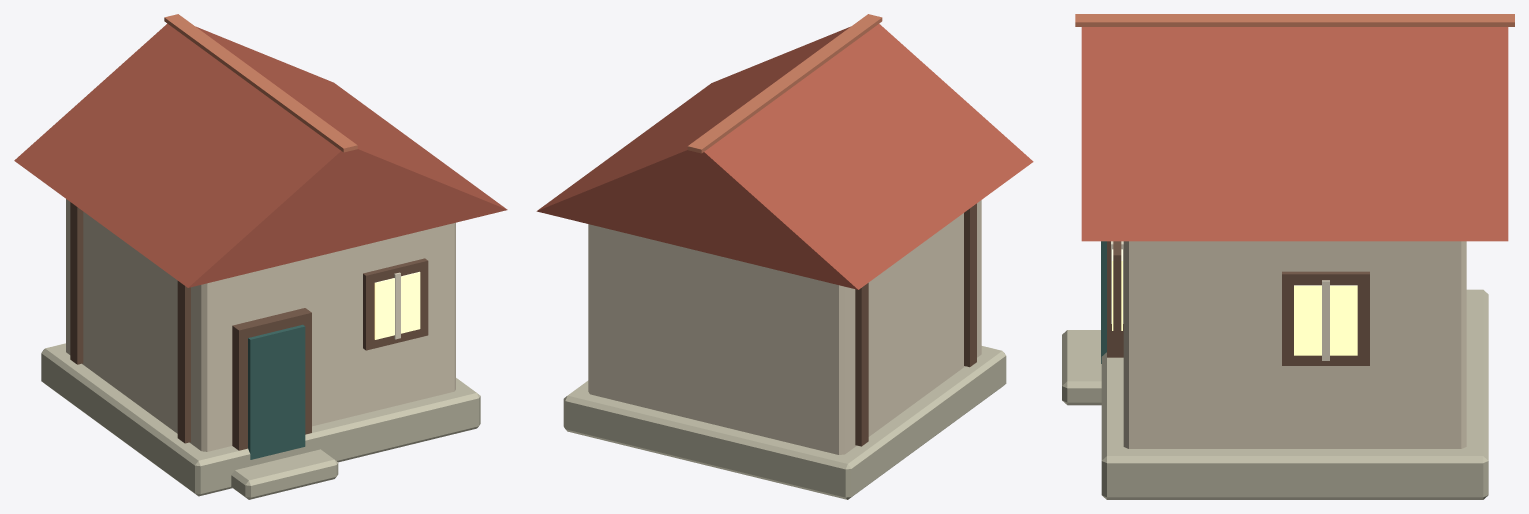
File: cottage.glb
The picture shows the model from 3 angles, left to right: view 1: azimuth 30°, elevation 25°; view 2: azimuth 150°, elevation 25°; view 3: azimuth 270°, elevation 25°; orthographic projection. The views are drawn at different scales.
Parts seen in each view (by area): view 1: Terracotta roof, Plaster walls, Stone foundation, Painted door, Door frame, Roof ridge, Doorstep, Window frame, Warm window, Corner timber, Corner timber.001; view 2: Terracotta roof, Plaster walls, Stone foundation, Roof ridge, Corner timber.001, Corner timber; view 3: Terracotta roof, Plaster walls, Stone foundation, Roof ridge, Warm window.001, Window frame.001, Doorstep, Window frame, Door frame, Painted door, Window mullion.001.
Part boxes in pixels (x1,y1,x2,y2): Terracotta roof: (14, 23, 507, 287); Plaster walls: (66, 199, 455, 451); Stone foundation: (41, 343, 480, 496); Painted door: (248, 324, 305, 459); Door frame: (232, 308, 311, 450); Roof ridge: (164, 14, 357, 152); Doorstep: (231, 449, 338, 499); Window frame: (363, 258, 428, 350); Warm window: (374, 271, 420, 339); Corner timber: (177, 281, 190, 443); Corner timber.001: (70, 202, 83, 364); Terracotta roof: (536, 24, 1033, 289); Plaster walls: (588, 200, 981, 454); Stone foundation: (563, 346, 1006, 499); Roof ridge: (687, 14, 882, 153); Corner timber.001: (855, 283, 868, 446); Corner timber: (964, 203, 976, 367); Terracotta roof: (1081, 27, 1508, 241); Plaster walls: (1123, 241, 1466, 448); Stone foundation: (1101, 289, 1488, 499); Roof ridge: (1075, 14, 1514, 26); Warm window.001: (1294, 285, 1357, 355); Window frame.001: (1282, 271, 1369, 365); Doorstep: (1062, 330, 1101, 405); Window frame: (1113, 241, 1121, 346); Door frame: (1107, 241, 1123, 357); Painted door: (1101, 241, 1106, 363); Window mullion.001: (1322, 280, 1329, 360).
Bounding box in the file's own units: 1.03 × 1 × 1.03.
